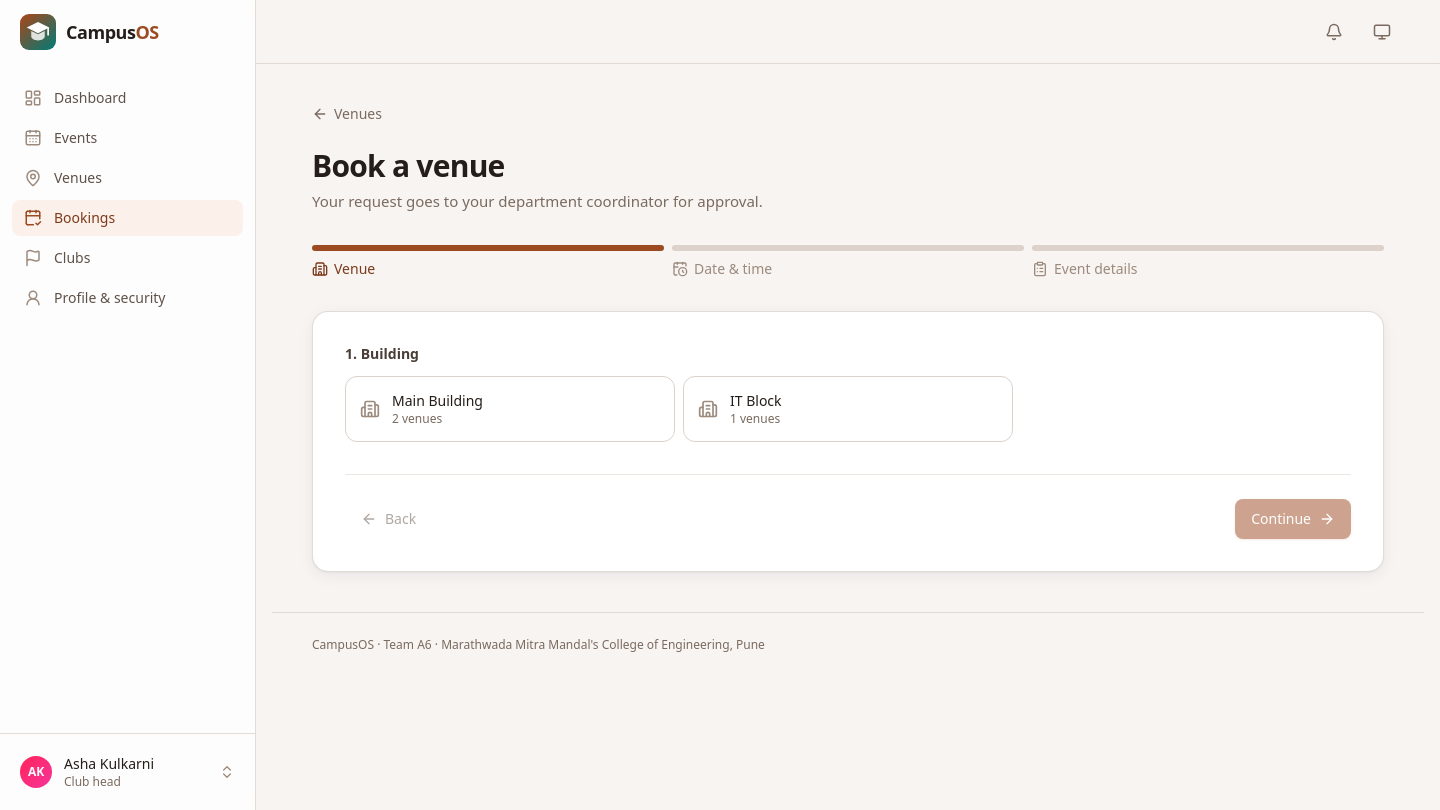
Test case: choosing a venue in a one-floor building › lists the rooms straight away, with no floor step, while a multi-floor building still asks
Note: IT Block has one floor: choosing it shows its venue at once, and says why.
Click the button "IT Block 1 venues": {"x": 756, "y": 400} [683,376,1013,442]
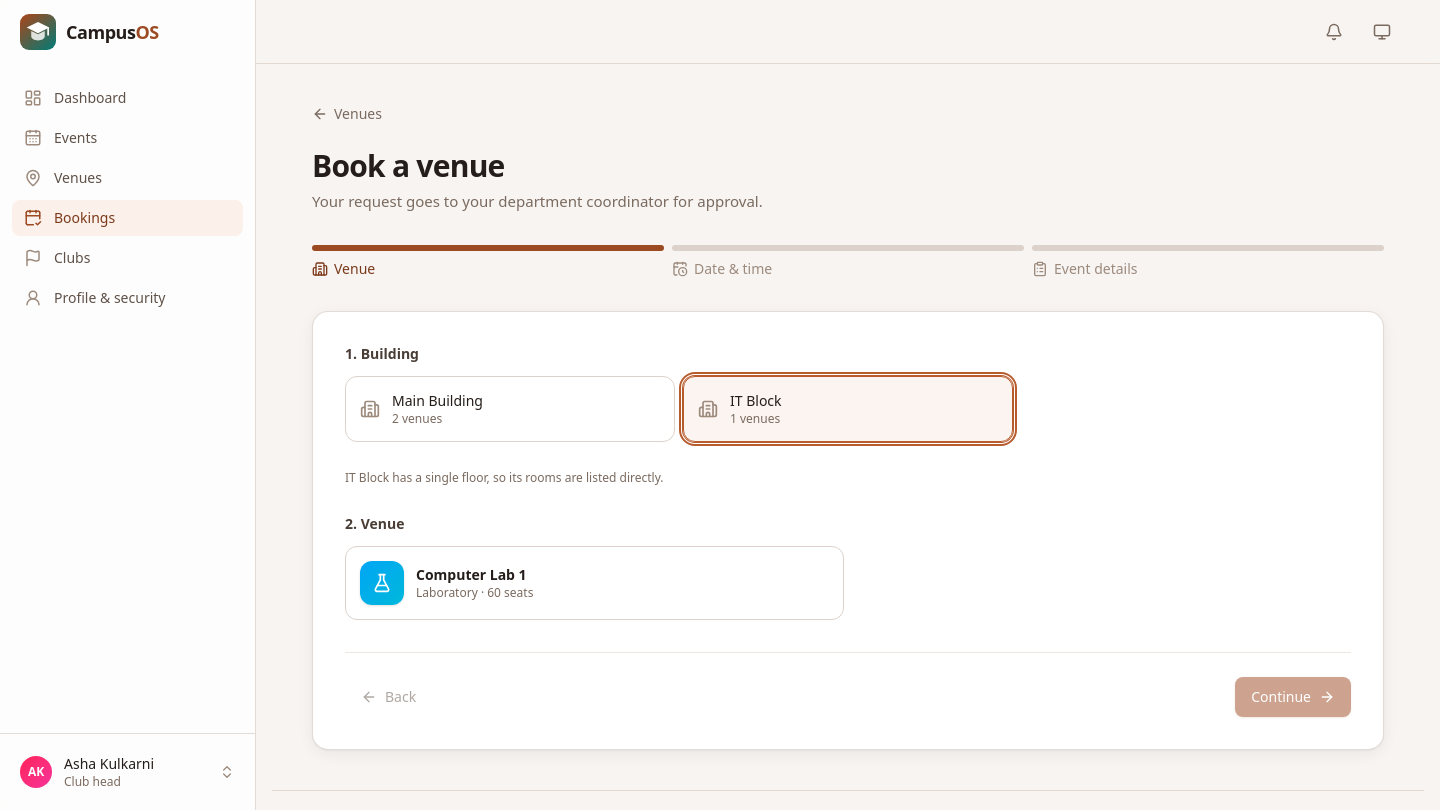
Expected: the button "Computer Lab 1 Laboratory · 60 seats" is shown, [345,546,844,620]
Expected: the text "IT Block has a single floor, so its rooms are listed directly." is shown, [345,468,664,486]
Expected: the heading "2. Venue" is shown, [345,514,404,532]
Note: Main Building has two floors, so the floor step is back and no room shows until one is chosen.
Click the button "Main Building 2 venues": {"x": 437, "y": 400} [345,376,675,442]
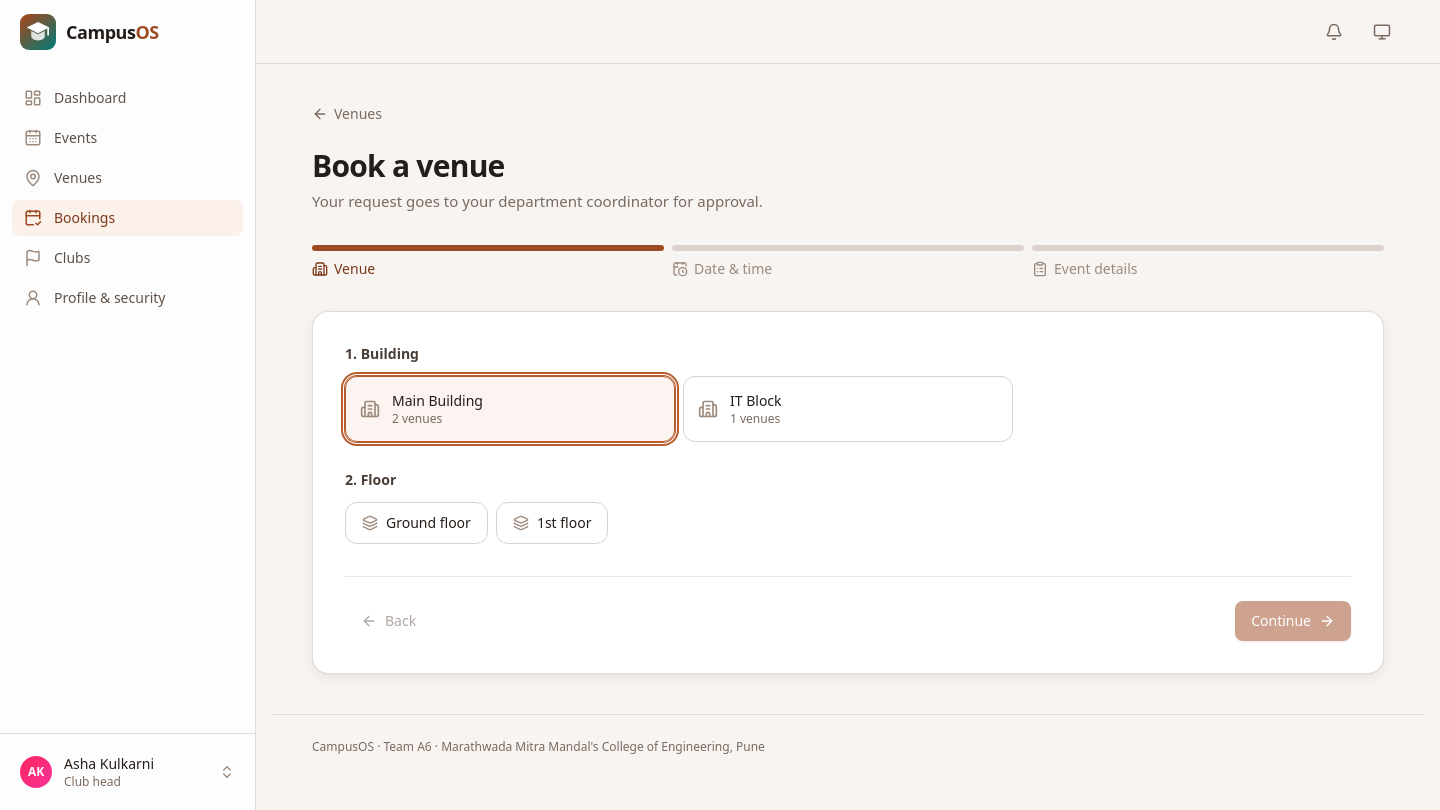
Expected: the button "Seminar Hall A" is not shown
Expected: the heading "2. Floor" is shown, [345,470,396,488]
Click the button "1st floor": {"x": 552, "y": 522} [496,502,608,544]
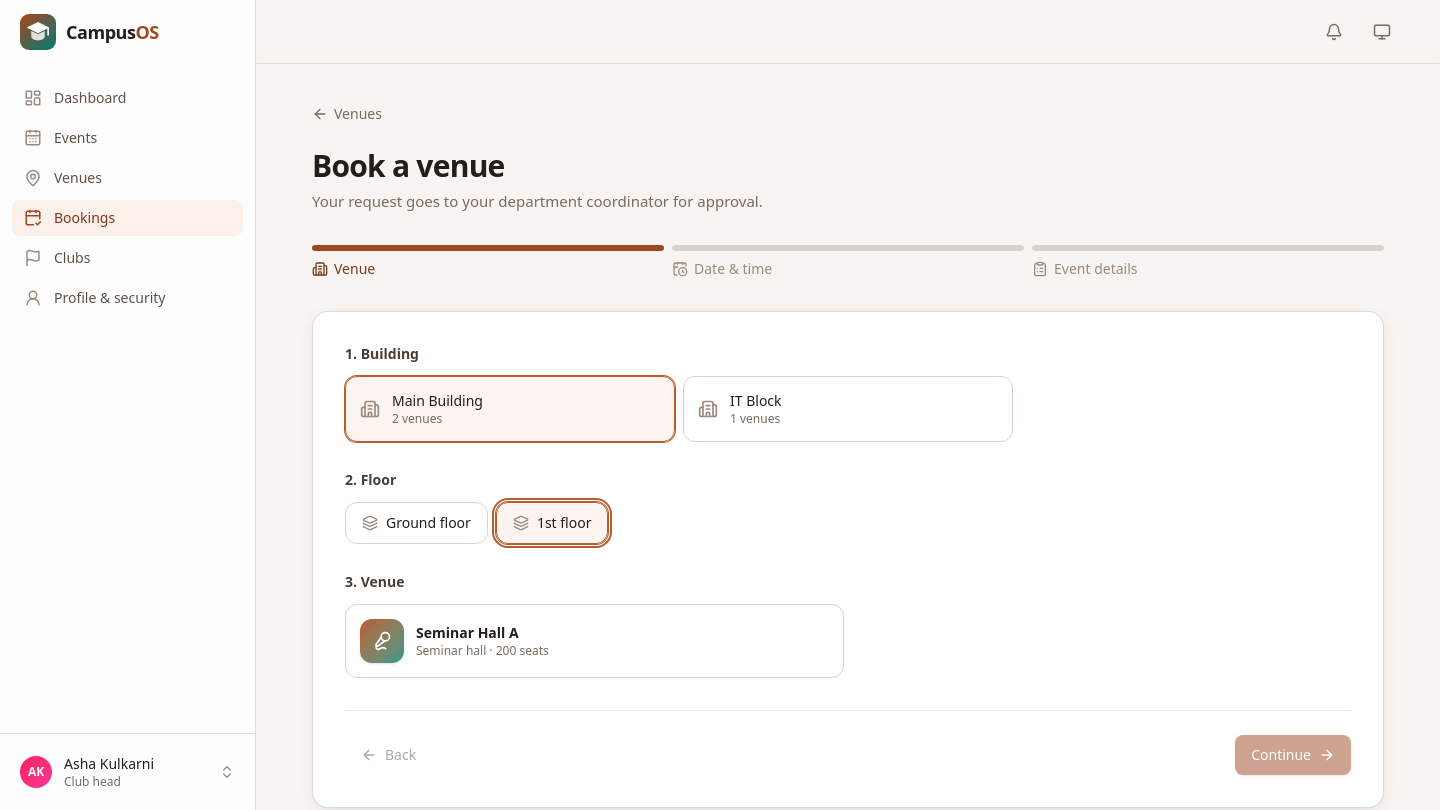
Expected: the heading "3. Venue" is shown, [345,572,404,590]
Expected: the button "Seminar Hall A Seminar hall · 200 seats" is shown, [345,604,844,678]
